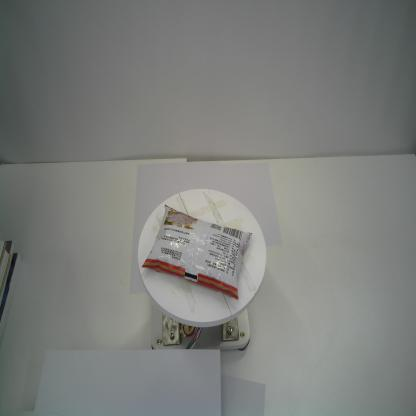Seasoner: (139, 202, 254, 303)
